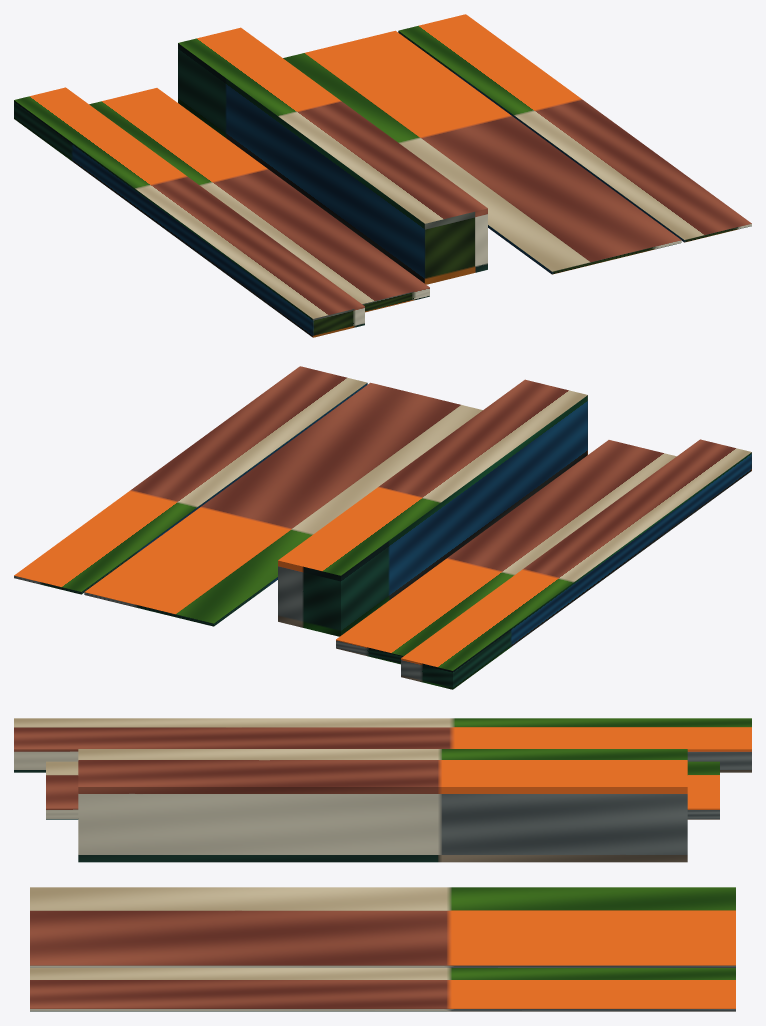
The model's file is HNP_Map007_Station_Collision_v003.fbx.
3 views of the same model, one above another, from view 1: azimuth 30°, elevation 25°; view 2: azimuth 150°, elevation 25°; view 3: azimuth 270°, elevation 25° (orthographic). The views are drawn at different scales.
Visible parts, largest first — view 1: UCX_STATION_BuildingBlock.001, UCX_STATION_ForecourtWalk.001, UCX_STATION_TrackBoundary.001, UCX_STATION_LaybyWalk.001, UCX_STATION_PlatformWalk.001; view 2: UCX_STATION_BuildingBlock.001, UCX_STATION_ForecourtWalk.001, UCX_STATION_TrackBoundary.001, UCX_STATION_LaybyWalk.001, UCX_STATION_PlatformWalk.001; view 3: UCX_STATION_BuildingBlock.001, UCX_STATION_ForecourtWalk.001, UCX_STATION_LaybyWalk.001, UCX_STATION_TrackBoundary.001, UCX_STATION_PlatformWalk.001.
Boxes of the visible parts, box(x1,y1,x2,y2) form: UCX_STATION_BuildingBlock.001: box(178, 27, 487, 284); UCX_STATION_ForecourtWalk.001: box(283, 30, 681, 274); UCX_STATION_TrackBoundary.001: box(14, 87, 364, 337); UCX_STATION_LaybyWalk.001: box(398, 14, 751, 242); UCX_STATION_PlatformWalk.001: box(89, 88, 429, 312); UCX_STATION_BuildingBlock.001: box(278, 379, 587, 636); UCX_STATION_ForecourtWalk.001: box(84, 382, 482, 626); UCX_STATION_TrackBoundary.001: box(401, 439, 751, 689); UCX_STATION_LaybyWalk.001: box(14, 366, 367, 594); UCX_STATION_PlatformWalk.001: box(336, 440, 676, 664); UCX_STATION_BuildingBlock.001: box(78, 749, 687, 862); UCX_STATION_ForecourtWalk.001: box(30, 887, 735, 967); UCX_STATION_LaybyWalk.001: box(30, 968, 735, 1011); UCX_STATION_TrackBoundary.001: box(14, 718, 751, 772); UCX_STATION_PlatformWalk.001: box(46, 761, 719, 819).
Bounding box in the file's own units: 3955 × 535 × 4600.
